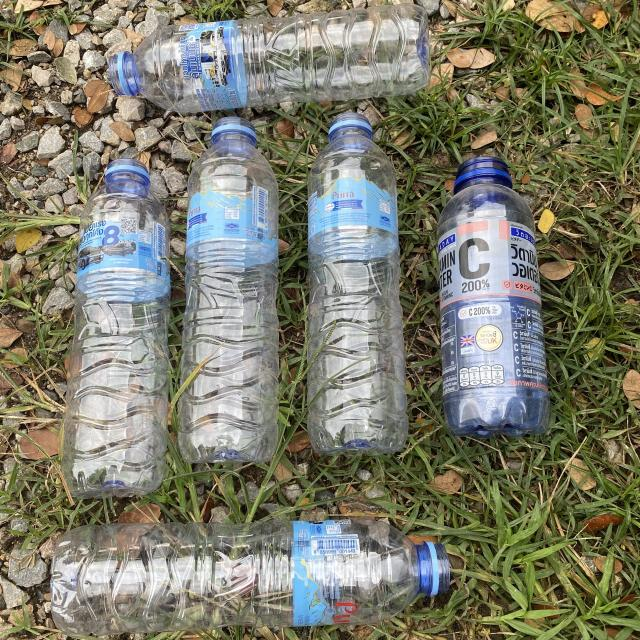plastik: (51, 518, 450, 636), (61, 159, 170, 498), (109, 4, 430, 114), (179, 116, 279, 464), (308, 114, 408, 454), (438, 156, 549, 438)
